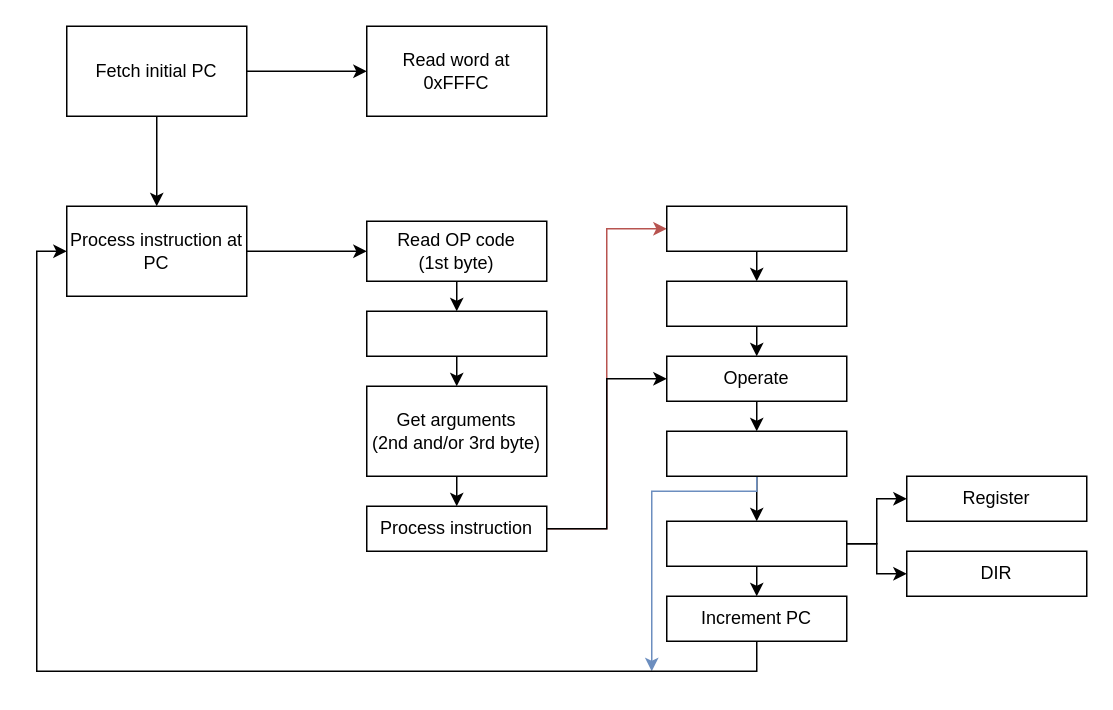
This 1113x710 diagram has some shape labels left out. The shapes that lost their labels are listed below. From the top down, each one's centre as x and y in pixels, then its label:
the point at 756,228: Calculate DIR
the point at 756,303: Get byte at DIR
the point at 456,333: Decode instruction
the point at 756,453: Modify FLAGS
the point at 756,543: Save result to:
